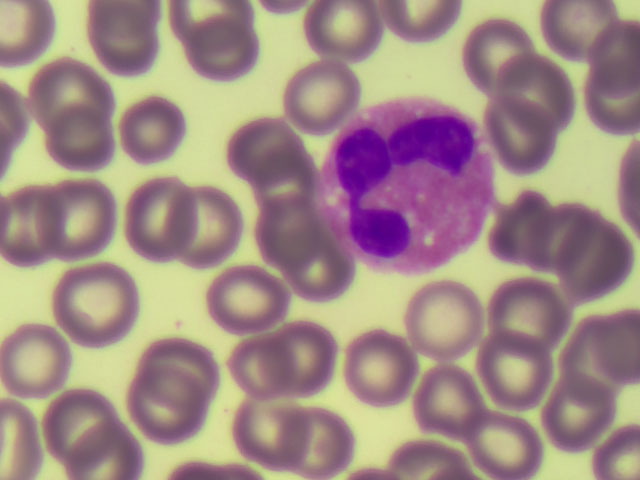RBC: (26, 57, 112, 131), (30, 112, 116, 186), (106, 95, 192, 169), (45, 181, 131, 255), (1, 182, 87, 256), (117, 181, 203, 255), (156, 191, 242, 265), (56, 262, 142, 336), (22, 377, 108, 451), (62, 406, 148, 480), (117, 377, 203, 451), (137, 329, 223, 403), (199, 264, 285, 338), (252, 244, 338, 318), (240, 192, 326, 266), (240, 155, 326, 229), (227, 117, 313, 191), (274, 53, 360, 127), (184, 17, 270, 91), (69, 5, 155, 79), (458, 13, 544, 87), (489, 54, 575, 128), (493, 103, 579, 177), (533, 1, 619, 75), (554, 224, 640, 298), (497, 198, 583, 272), (478, 269, 564, 343), (411, 283, 497, 357), (349, 334, 435, 408), (270, 321, 356, 395), (232, 342, 318, 416), (228, 401, 314, 475), (275, 406, 361, 480), (405, 372, 491, 446), (466, 406, 552, 480), (475, 334, 561, 408), (537, 377, 623, 451), (554, 315, 640, 389), (1, 317, 86, 391), (291, 1, 377, 74)
WBC: (325, 95, 496, 264)
